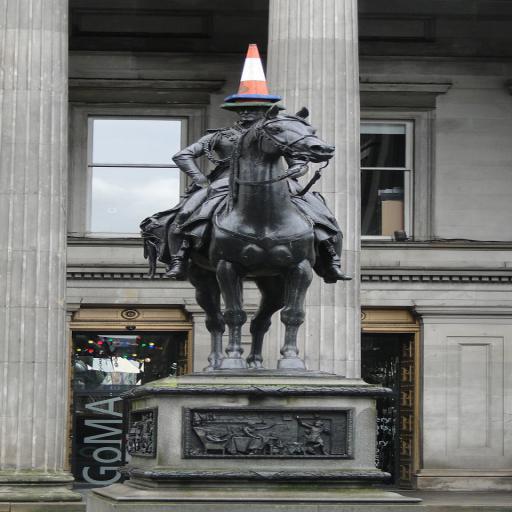Horse: (137, 106, 332, 370)
